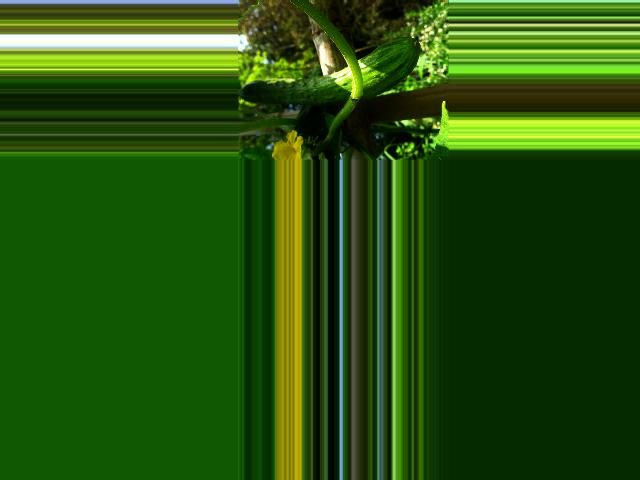cucumber: (238, 38, 420, 105)
